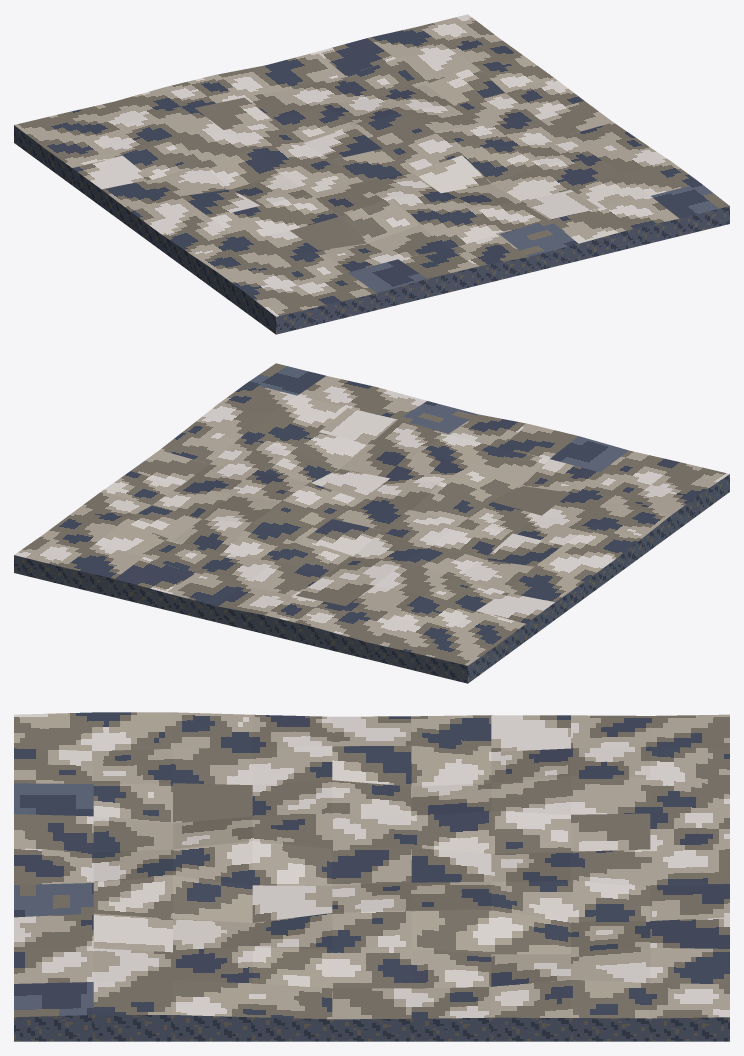
File: TER-06_Arenal_de_conchas_a.gltf
3 renders of one model, top to bottom at view 1: azimuth 30°, elevation 25°; view 2: azimuth 150°, elevation 25°; view 3: azimuth 270°, elevation 25°, orthographic. The views are drawn at different scales.
Parts seen in each view (by area): view 1: TER-06_Arenal_de_conchas_a-col; view 2: TER-06_Arenal_de_conchas_a-col; view 3: TER-06_Arenal_de_conchas_a-col.
Part boxes in pixels (x1,y1,x2,y2): TER-06_Arenal_de_conchas_a-col: (14, 14, 729, 334); TER-06_Arenal_de_conchas_a-col: (14, 363, 729, 683); TER-06_Arenal_de_conchas_a-col: (14, 712, 729, 1041).
Size of the model in its own units: 4 by 0.2 by 4.
1 material, 1 textured.
